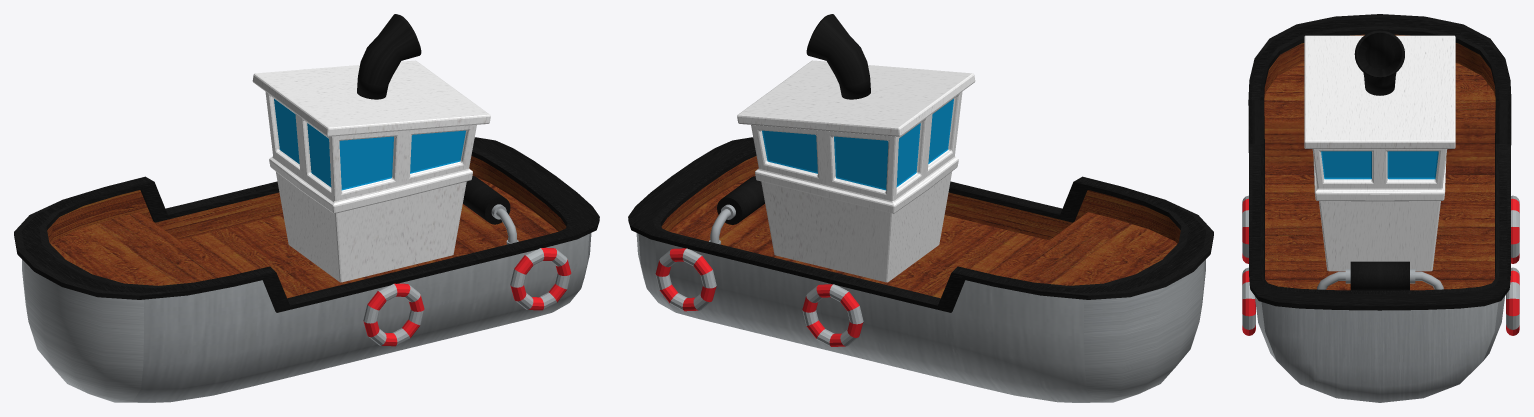
The model's file is boat.obj.
3 views of the same model, side by side, from view 1: azimuth 30°, elevation 25°; view 2: azimuth 150°, elevation 25°; view 3: azimuth 270°, elevation 25° (orthographic).
Parts seen in each view (by area): view 1: Cube, Plane, Cylinder, Torus.001, Torus, Cylinder.002; view 2: Cube, Plane, Cylinder, Torus.003, Torus.002, Cylinder.002; view 3: Cube, Plane, Cylinder.002, Cylinder, Torus.002, Torus, Torus.003, Torus.001.
Boxes of the visible parts, left/top/right/bottom form: Cube: left=14, top=137, right=599, bottom=402; Plane: left=252, top=60, right=490, bottom=282; Cylinder: left=357, top=14, right=421, bottom=99; Torus.001: left=363, top=283, right=424, bottom=346; Torus: left=510, top=247, right=571, bottom=310; Cylinder.002: left=463, top=176, right=518, bottom=244; Cube: left=628, top=137, right=1213, bottom=402; Plane: left=737, top=60, right=975, bottom=282; Cylinder: left=806, top=14, right=870, bottom=99; Torus.003: left=802, top=284, right=863, bottom=346; Torus.002: left=655, top=248, right=716, bottom=311; Cylinder.002: left=709, top=176, right=764, bottom=244; Cube: left=1248, top=14, right=1511, bottom=402; Plane: left=1304, top=35, right=1455, bottom=271; Cylinder.002: left=1317, top=261, right=1443, bottom=290; Cylinder: left=1354, top=30, right=1404, bottom=95; Torus.002: left=1506, top=267, right=1519, bottom=335; Torus: left=1242, top=267, right=1255, bottom=335; Torus.003: left=1511, top=195, right=1519, bottom=263; Torus.001: left=1242, top=195, right=1248, bottom=263.
Size of the model in its own units: 6.5 by 3.72 by 2.98.
6 materials, 6 textured.
